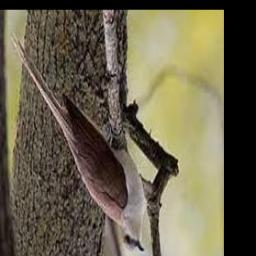Cuckoo: (10, 30, 144, 254)
